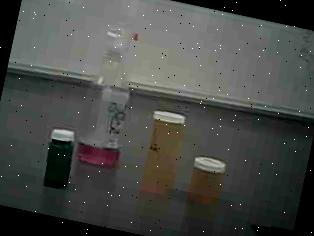Bottle A: (135, 106, 194, 202)
Bottle B: (180, 144, 234, 222)
Bottle C: (35, 123, 89, 193)
hazard: (69, 17, 159, 175)
